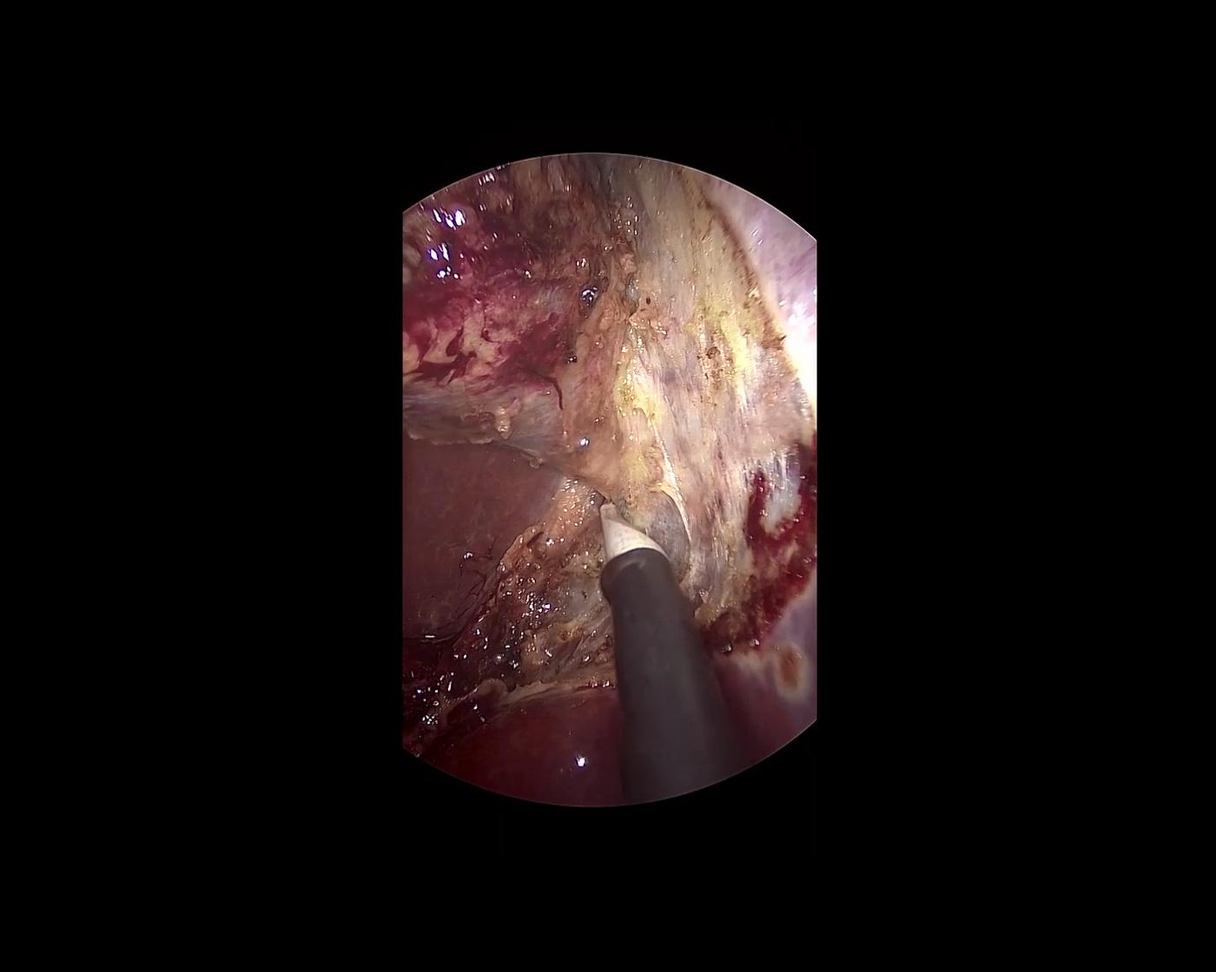Cautery: (559, 486, 746, 804)
Gallbladder: (400, 157, 635, 473)
Liver: (416, 570, 874, 888), (403, 442, 566, 645)
